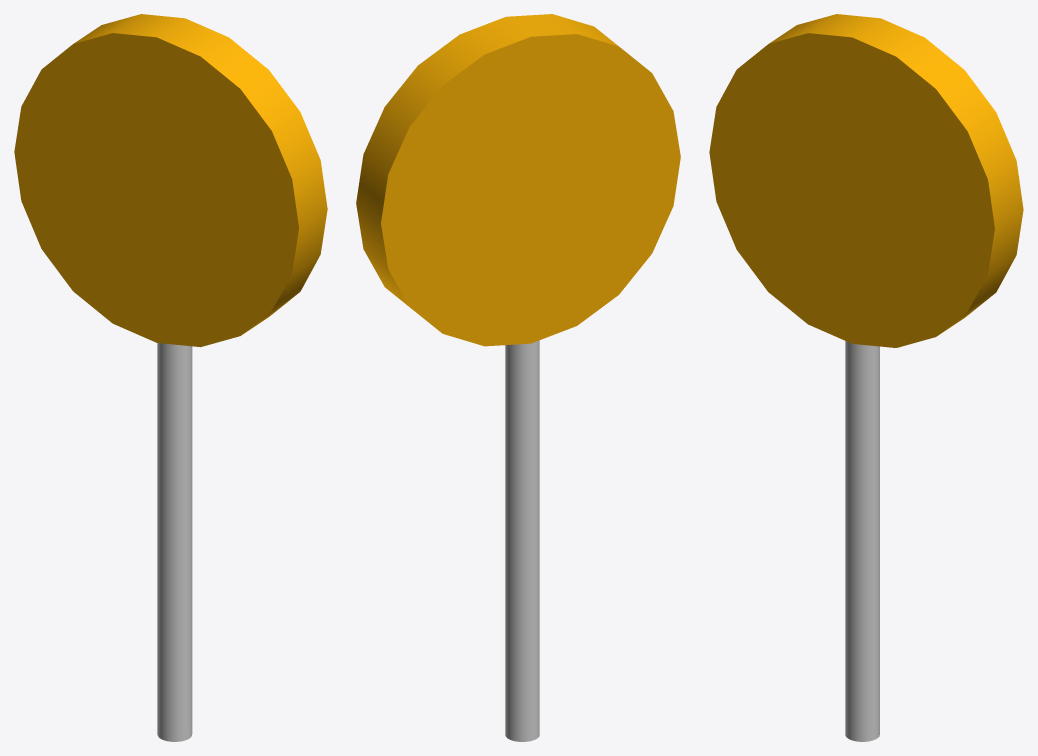
The model's file is ORANGE LOLLY.fbx.
3 views of the same model, side by side, from view 1: azimuth 90°, elevation 25°; view 2: azimuth 150°, elevation 25°; view 3: azimuth 270°, elevation 25° (orthographic).
Visible parts, largest first — view 1: pCylinder2; view 2: pCylinder2; view 3: pCylinder2.
Boxes of the visible parts, x1,y1,x2,y2 form: pCylinder2: (14, 14, 327, 741); pCylinder2: (356, 14, 680, 741); pCylinder2: (709, 14, 1023, 741).
Size of the model in its own units: 0.2105 by 0.727 by 0.2925.
